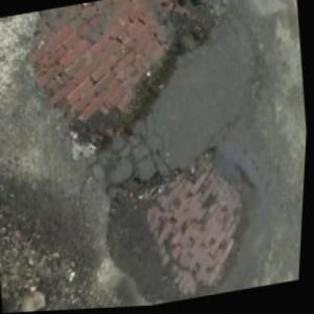Hueco: (97, 140, 268, 309)
